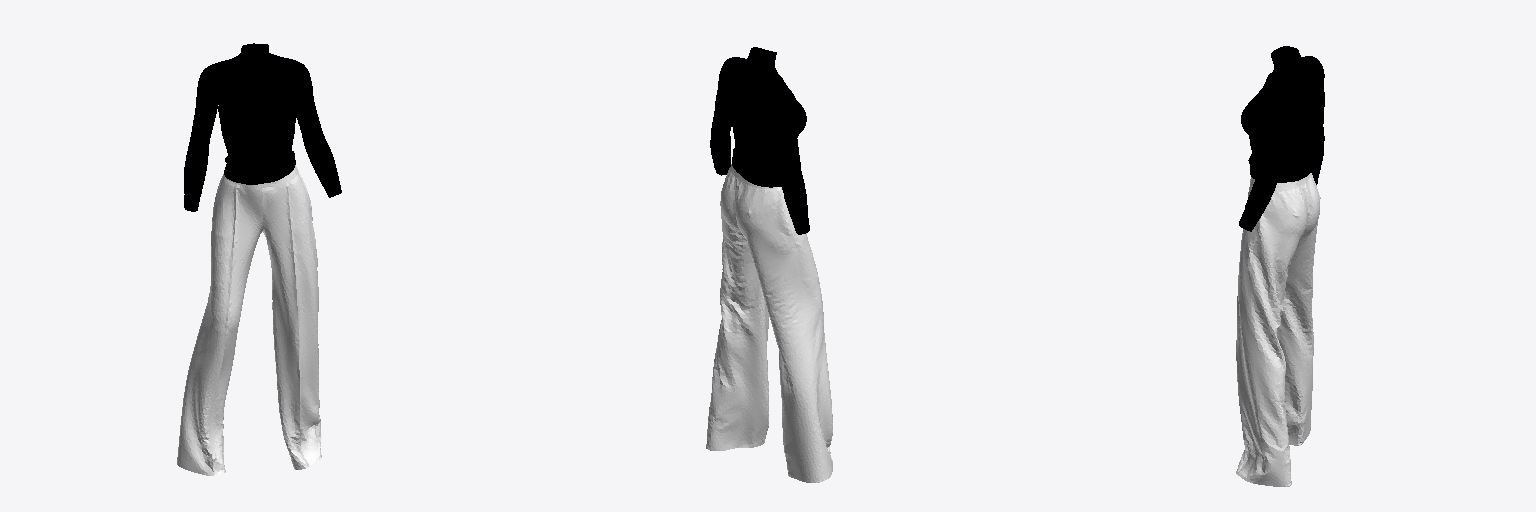
File: DA_HighNeck+WidePants_0000072.obj
3 renders of one model, left to right at view 1: azimuth 30°, elevation 25°; view 2: azimuth 150°, elevation 25°; view 3: azimuth 270°, elevation 25°, orthographic.
Size of the model in its own units: 0.571 by 1.64 by 0.3226.